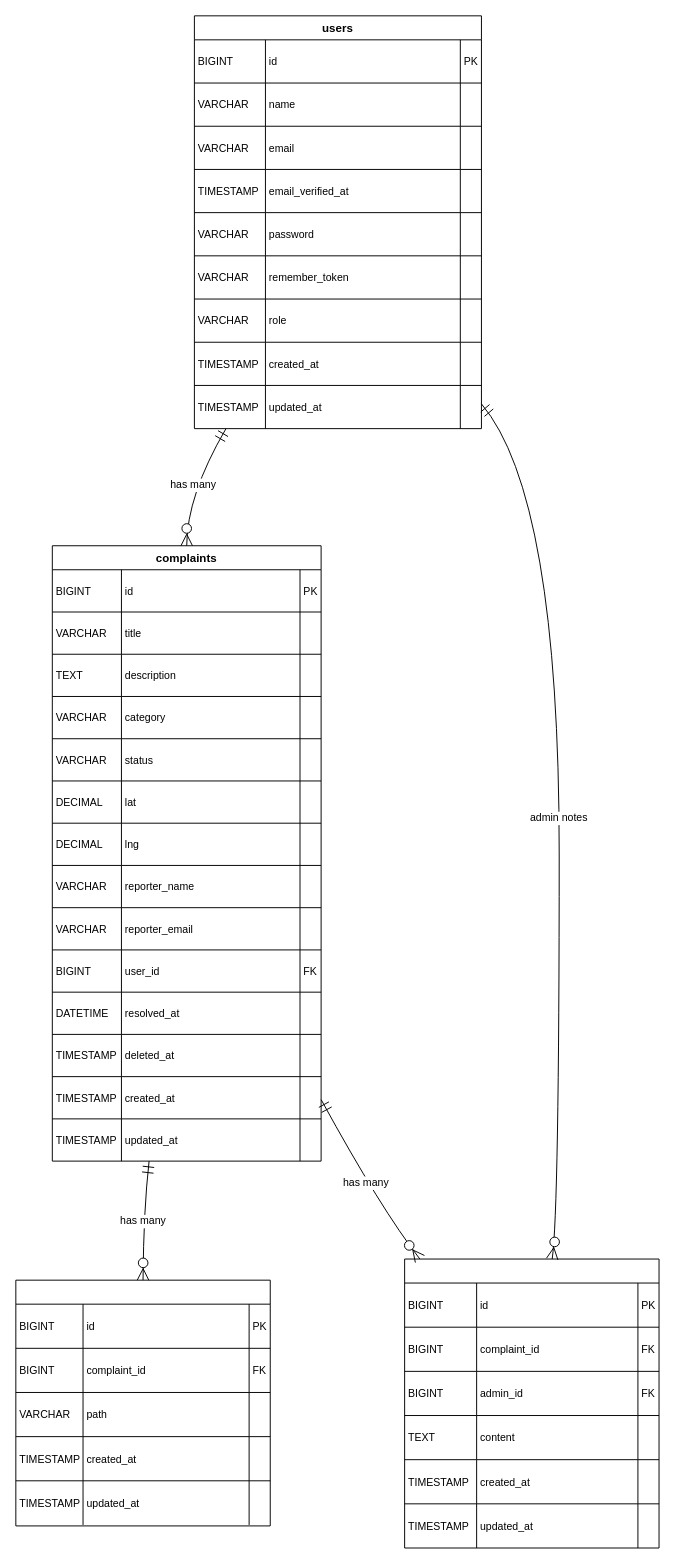
Image size: 675x1564. Some labels were removed from this diagram. Here are the shapes that lost their labels. From the top down, the box of each, then its label:
(15, 1279, 270, 1526): complaint_photos
(404, 1258, 659, 1548): complaint_notes
